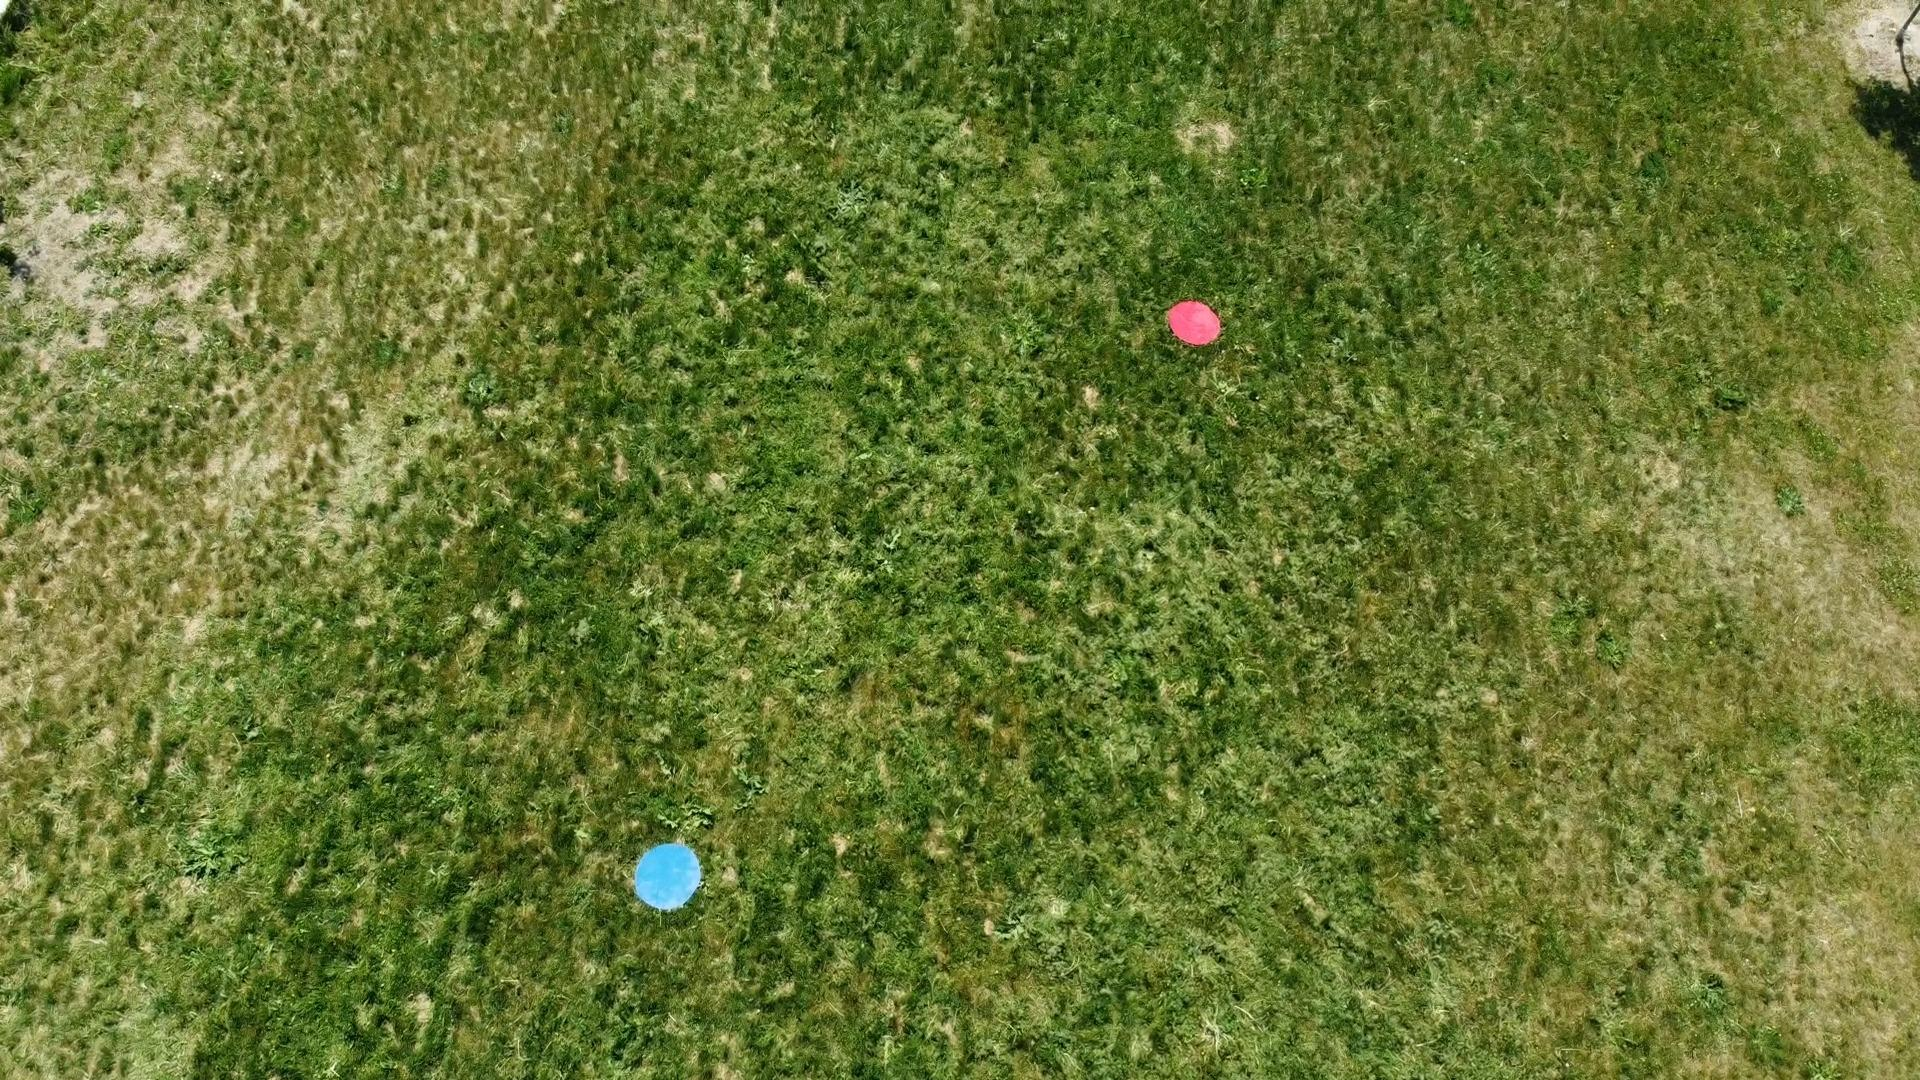Blue: (632, 839, 705, 913)
Red: (1167, 295, 1225, 348)
